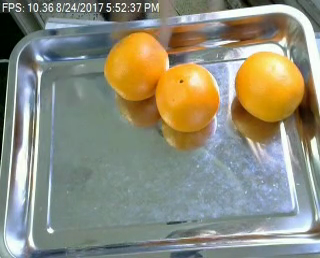Orange: (235, 51, 305, 121), (104, 31, 170, 100), (155, 61, 219, 132)
